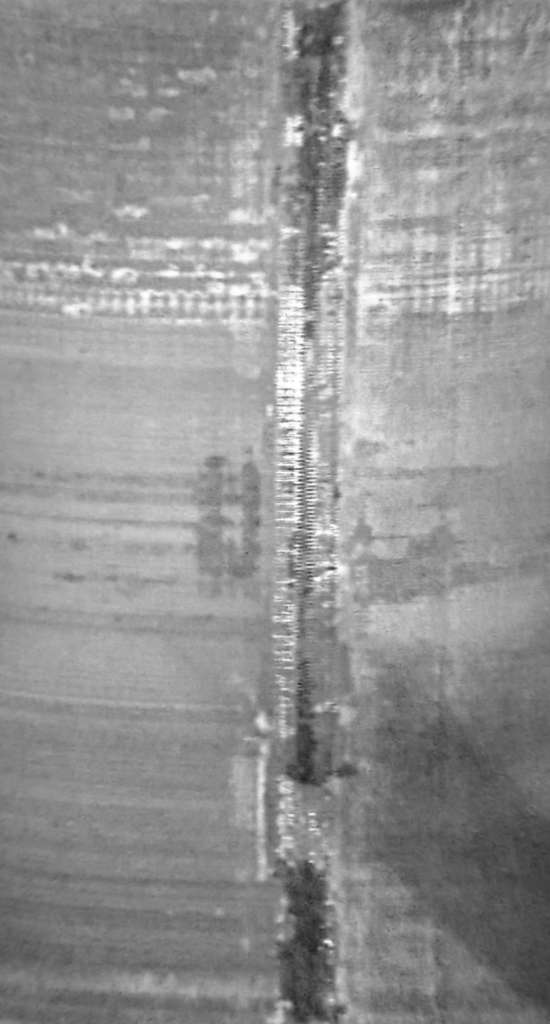splice: (271, 1, 358, 1024)
